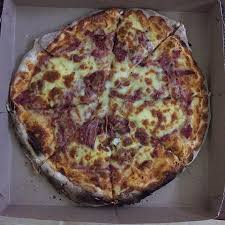pizza: (13, 9, 210, 199)
